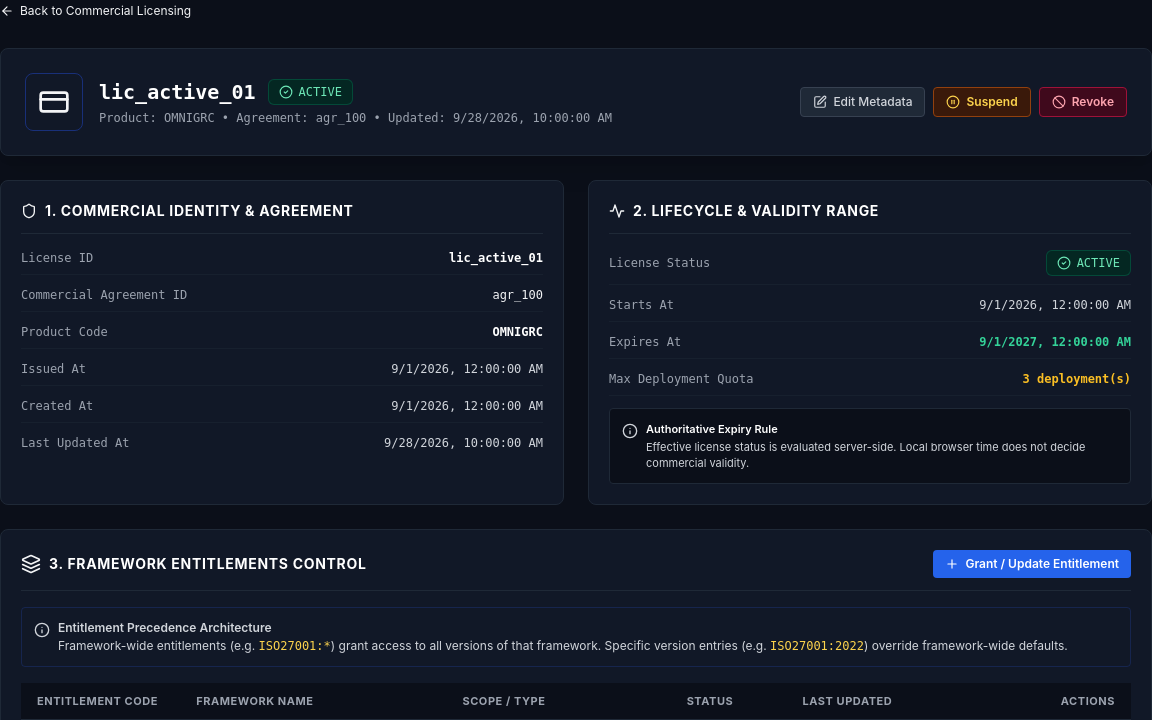
CP-6.3 Commercial Licensing & Entitlements Control UI › CP-6.3.1 High-Risk UI Forensic Tests › E. 409 commercial conflict -> show conflict + refresh; never automatically retry destructive mutation
Expected: the heading "lic_active_01" is shown, x1=99 y1=78 x2=256 y2=106
Click the button "Suspend" at (982, 102), box x1=934 y1=87 x2=1031 y2=117
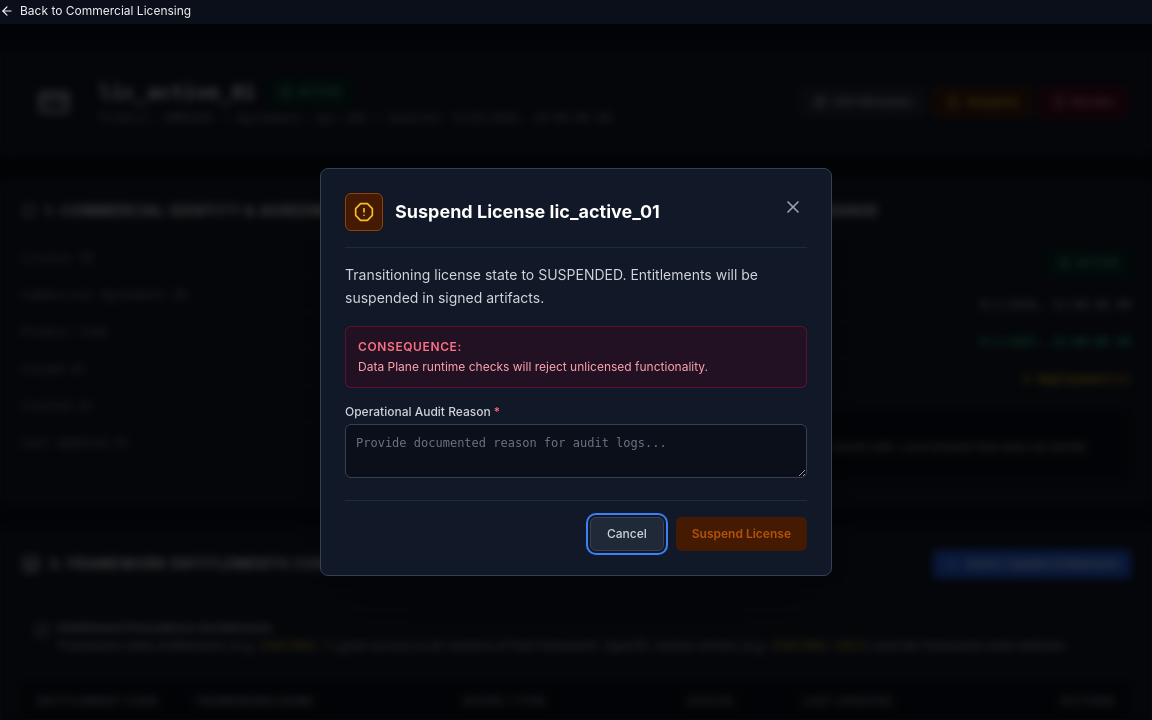
Type "Valid documented reason for suspension" into the text box with placeholder "Provide documented reason for audit logs..." at (576, 451), box x1=345 y1=424 x2=807 y2=478
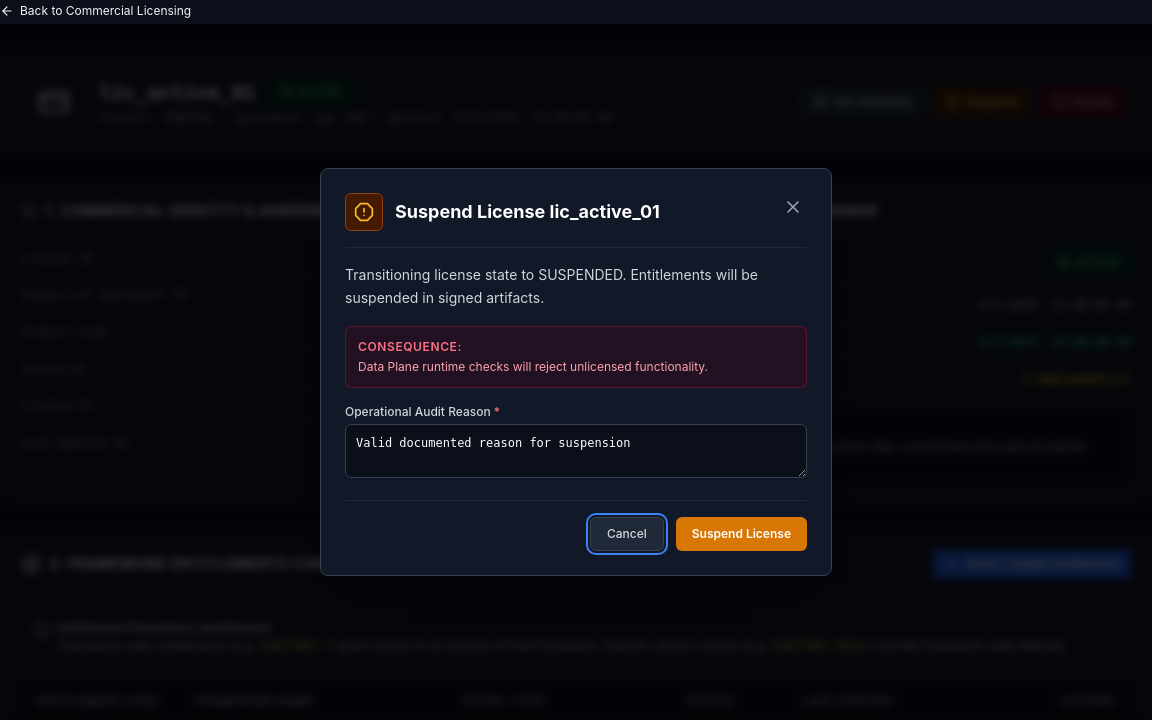
Click the button "Suspend License" at (741, 534), box x1=676 y1=517 x2=807 y2=551
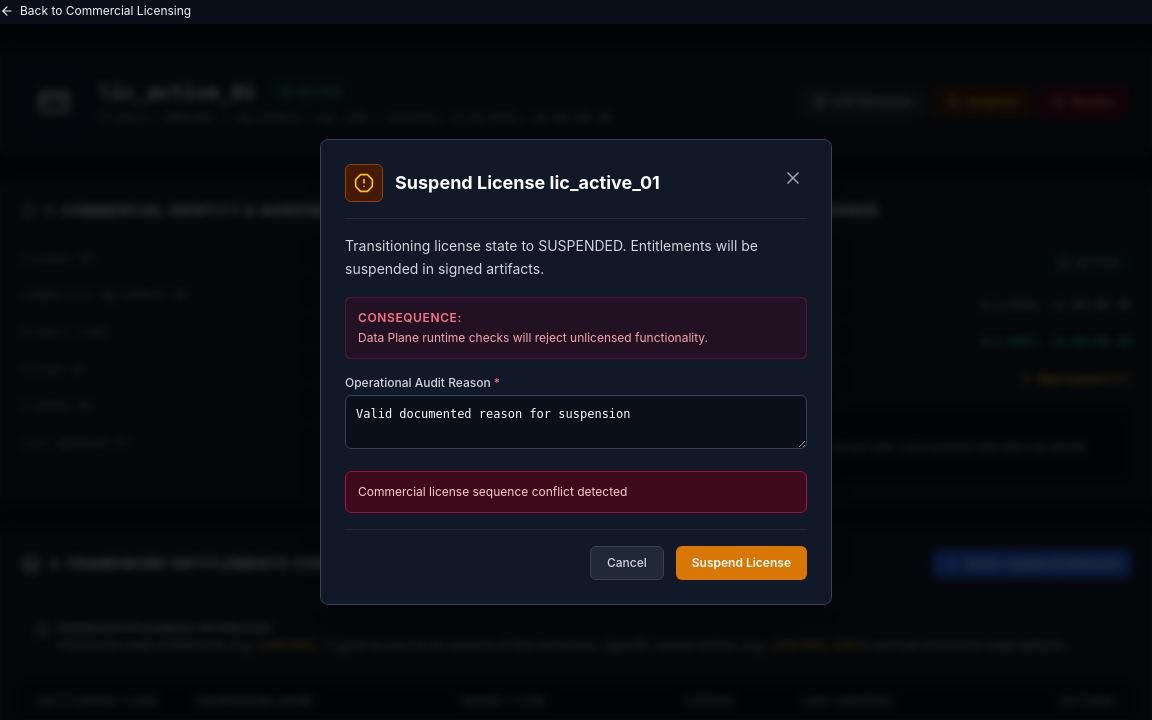
Result: the text "Commercial license sequence conflict detected" is shown at x1=345 y1=471 x2=807 y2=513
